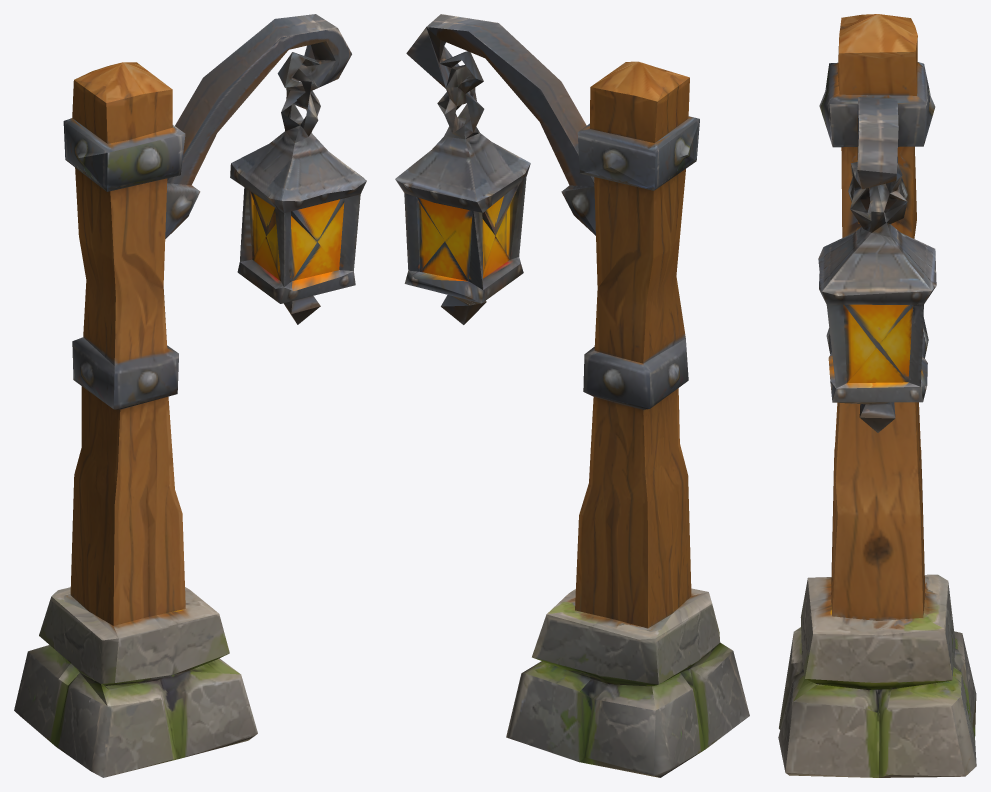
The model's file is lamp.glb.
3 views of the same model, side by side, from view 1: azimuth 30°, elevation 25°; view 2: azimuth 150°, elevation 25°; view 3: azimuth 270°, elevation 25° (orthographic). The views are drawn at different scales.
Visible parts, largest first — view 1: Body; view 2: Body; view 3: Body.
Boxes of the visible parts, left/top/right/bottom form: Body: left=14, top=14, right=366, bottom=777; Body: left=395, top=14, right=749, bottom=777; Body: left=778, top=14, right=976, bottom=777.
Size of the model in its own units: 1.24 by 2.7 by 0.6749.
Materials: 1 (1 with a texture image).
